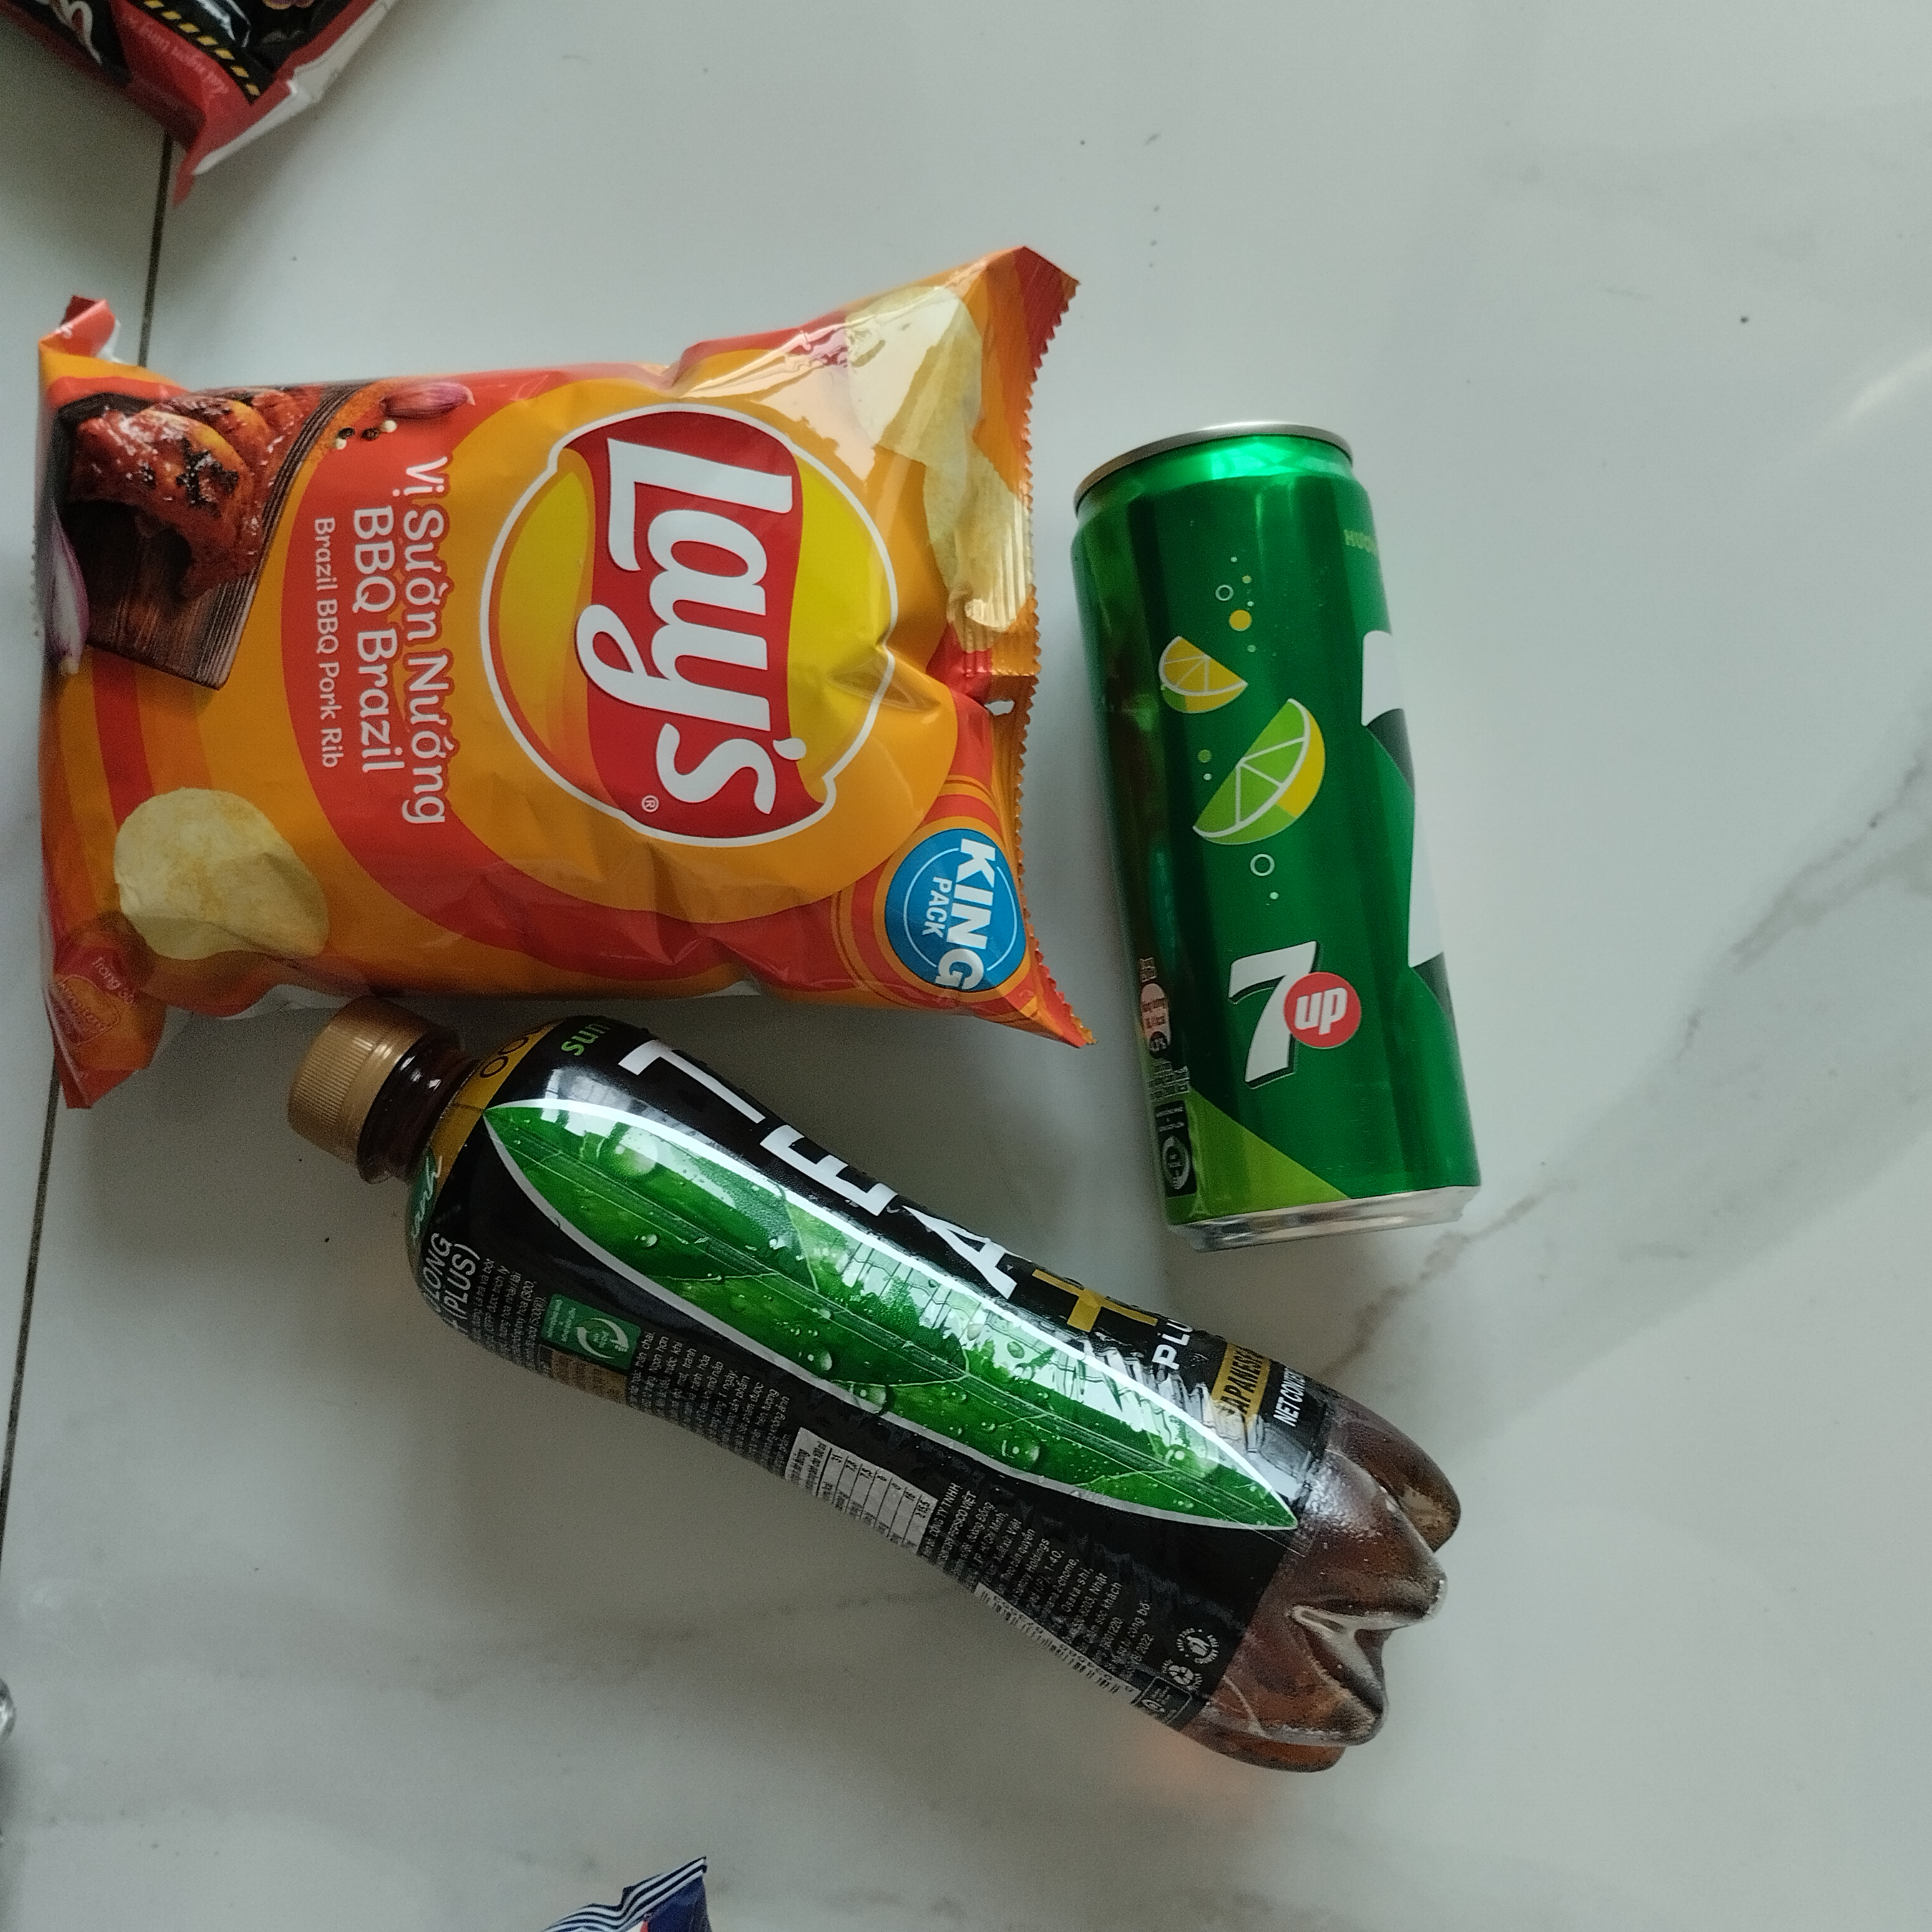7up: (1062, 425, 1484, 1269)
Lays: (12, 239, 1100, 1125)
Olong: (283, 1001, 1468, 1787)
